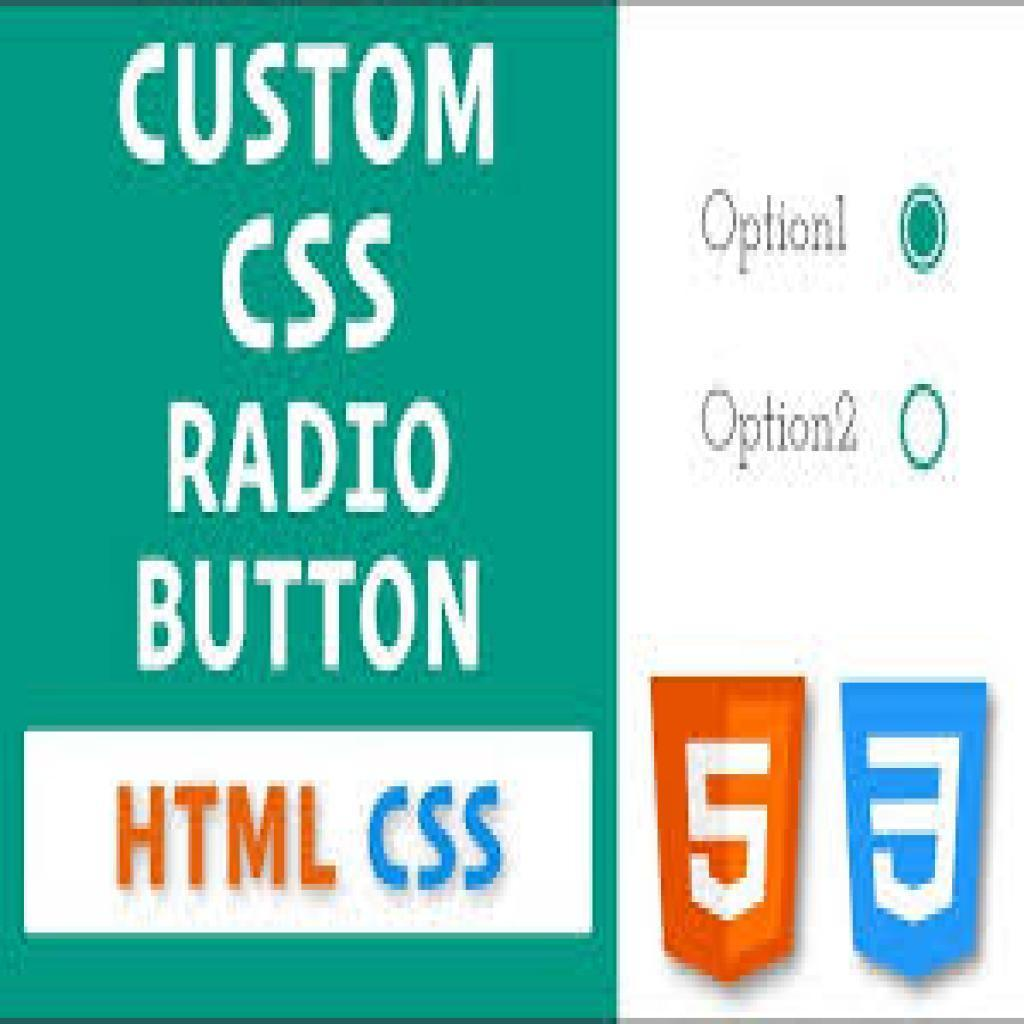label: (702, 383, 856, 471), (690, 189, 861, 263)
radio: (898, 180, 957, 282), (895, 377, 952, 479)
